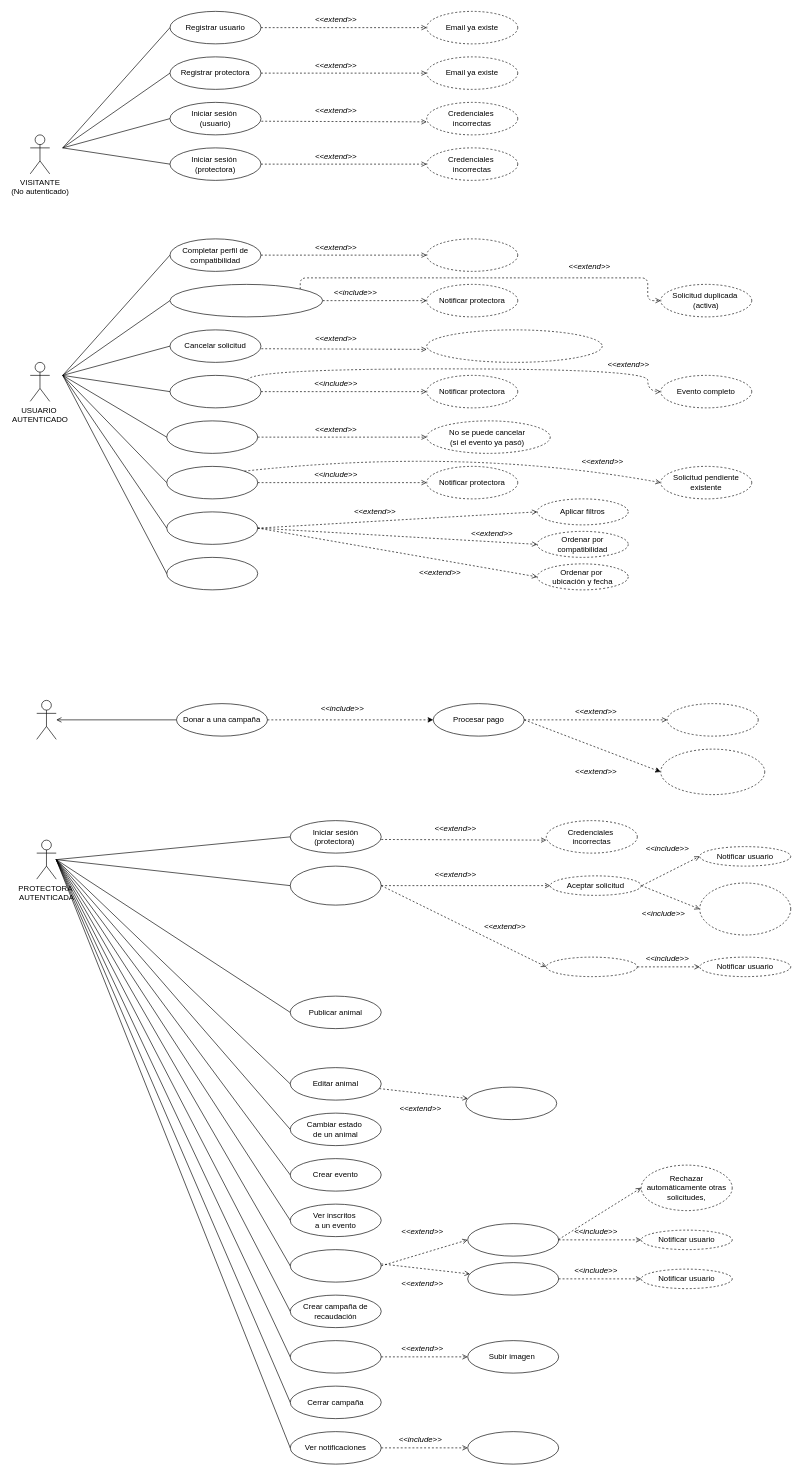
Some shapes in this 802 by 1476 pixel diagram are drawn without their labels. The shapes that lost their labels are listed below. From the top down, each one's box as (x1, y1, x2, y2) in pixels, then its label:
(426, 238, 518, 271): Actualizar perfil en cualquier momento
(169, 284, 323, 317): Enviar solicitud de adopción/acogida/apadrinamiento
(426, 329, 602, 362): Animal vuelve a disponible (si no quedan solicitudes pendientes)
(169, 375, 261, 408): Inscribirse a un evento
(166, 420, 258, 453): Cancelar inscripción a evento
(166, 466, 258, 499): Solicitar voluntariado
(166, 511, 258, 544): Explorar catálogo de animales
(166, 557, 258, 590): Ver ficha de un animal
(36, 700, 56, 739): PASARELA DE PAGO SIMULADA
(667, 703, 758, 736): Pago fallido
(660, 748, 765, 795): Cerrar campaña automáticamente (si se alcanza el objetivo)
(290, 865, 381, 905): Gestionar solicitudes recibidas
(699, 882, 791, 935): Rechazar automáticamente otras solicitudes pendientes
(546, 956, 637, 977): Rechazar solicitud
(465, 1086, 557, 1120): La especie no es editable.
(467, 1223, 559, 1256): Aceptar solicitud voluntariado
(290, 1249, 381, 1282): Gestionar solicitudes voluntariado
(467, 1262, 559, 1295): Rechazar solicitud voluntariado
(290, 1340, 381, 1373): Publicar actualización campaña
(467, 1431, 559, 1464): Marcar como leído
